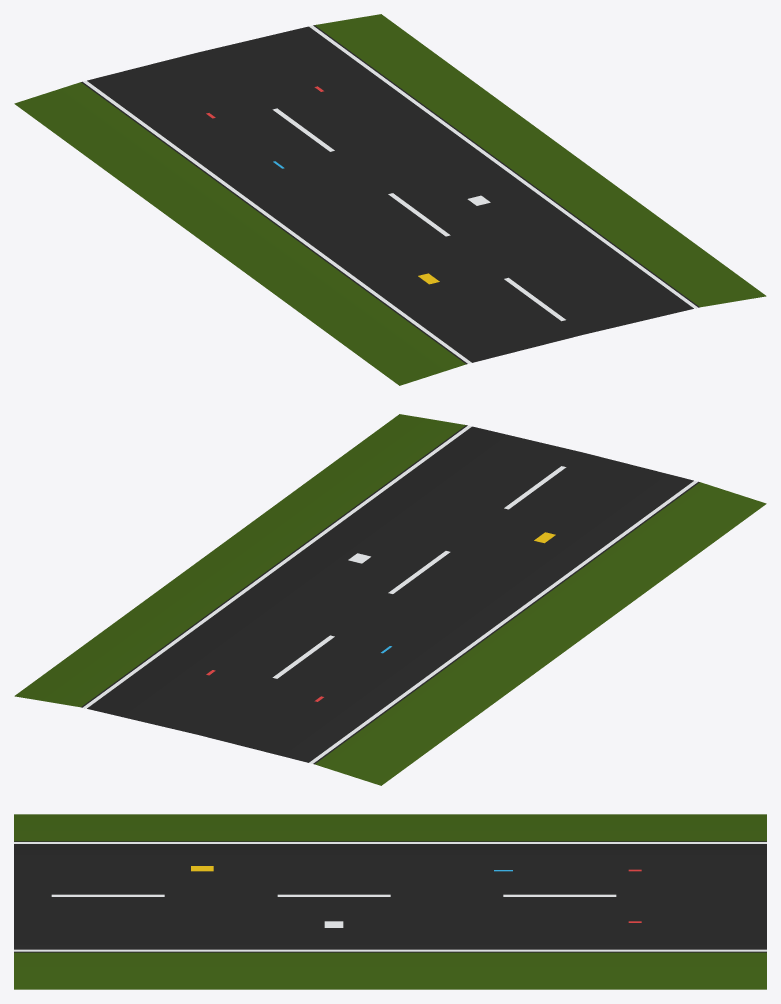
File: road_asphalt.glb
The picture shows the model from 3 angles, top to bottom: view 1: azimuth 30°, elevation 25°; view 2: azimuth 150°, elevation 25°; view 3: azimuth 270°, elevation 25°; orthographic projection. The views are drawn at different scales.
Visible parts, largest first — view 1: Road_Asphalt; view 2: Road_Asphalt; view 3: Road_Asphalt.
Part boxes in pixels (x1,y1,x2,y2): Road_Asphalt: (14, 14, 766, 385); Road_Asphalt: (14, 414, 766, 785); Road_Asphalt: (14, 814, 766, 989).
Bounding box in the file's own units: 11 × 0.1815 × 20.
